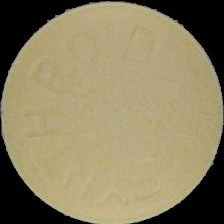53808-1013: (0, 0, 224, 224)
